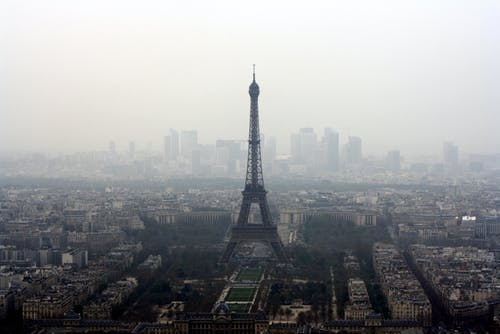eiffel tower: (203, 54, 295, 266)
